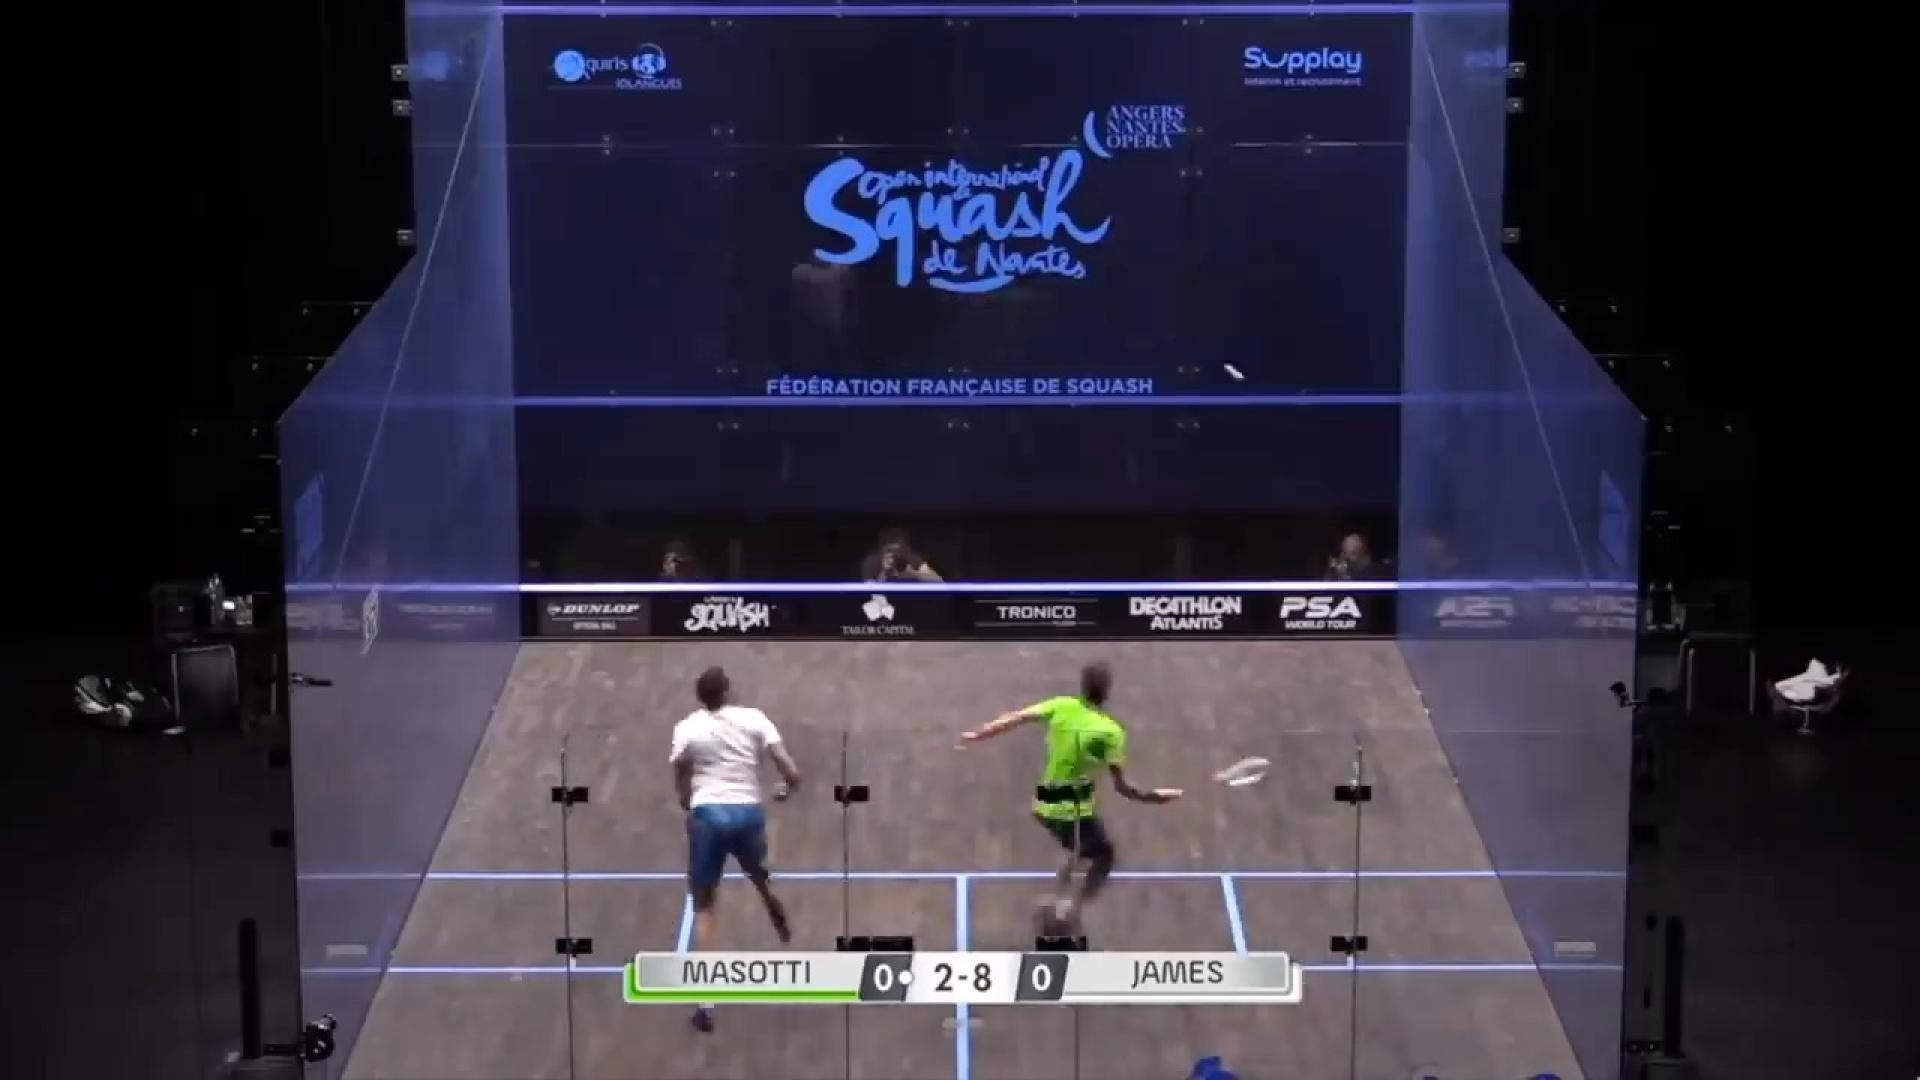Squash-Ball: (1217, 349, 1261, 390)
